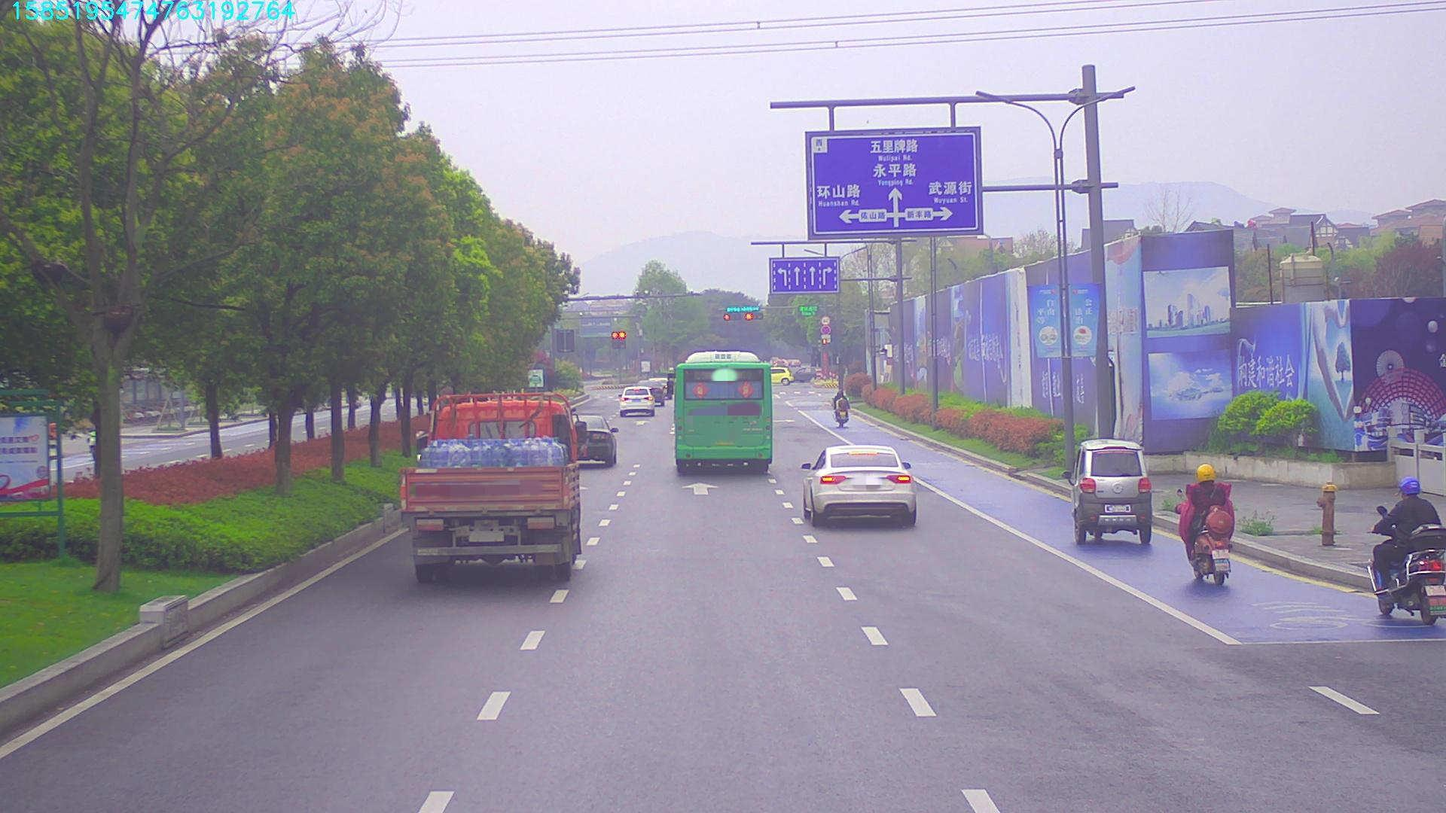red: (742, 310, 760, 322), (719, 311, 740, 320)
wait_on: (722, 302, 759, 311)
